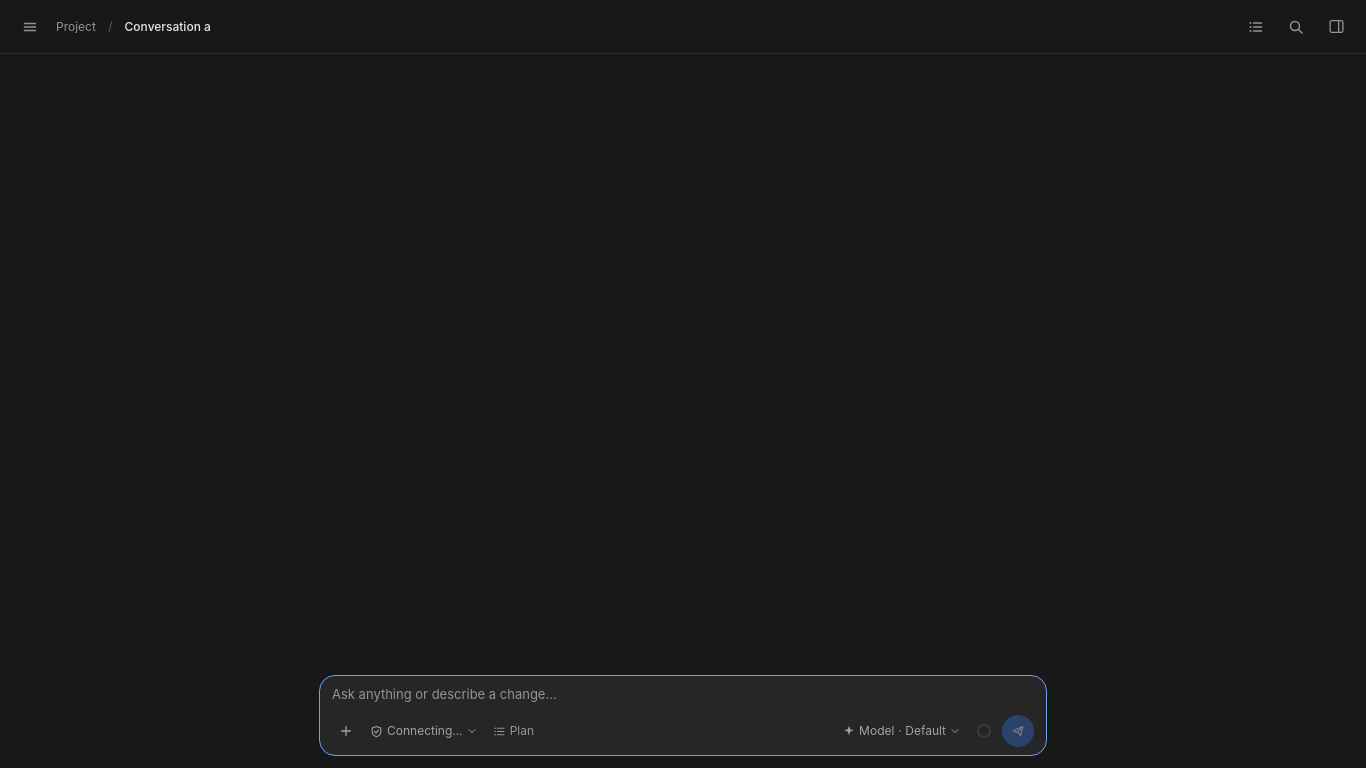
Test: does not present unavailable or partial inspections as a clean working tree
Step 1. Click the button named "Open workspace" → (1336, 26), box [1322,12,1350,40]
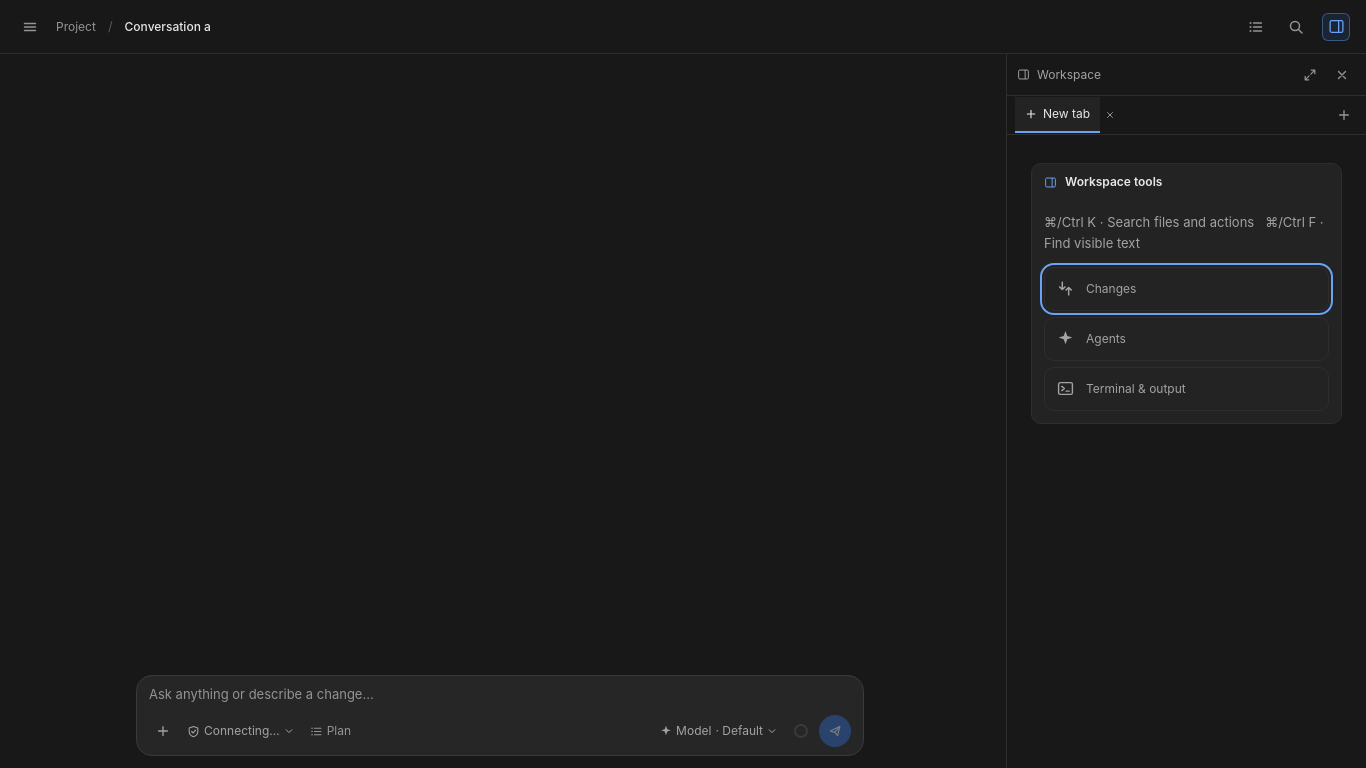
Step 2. Click the button "Changes" → (1111, 288), box [1044,267,1329,311]
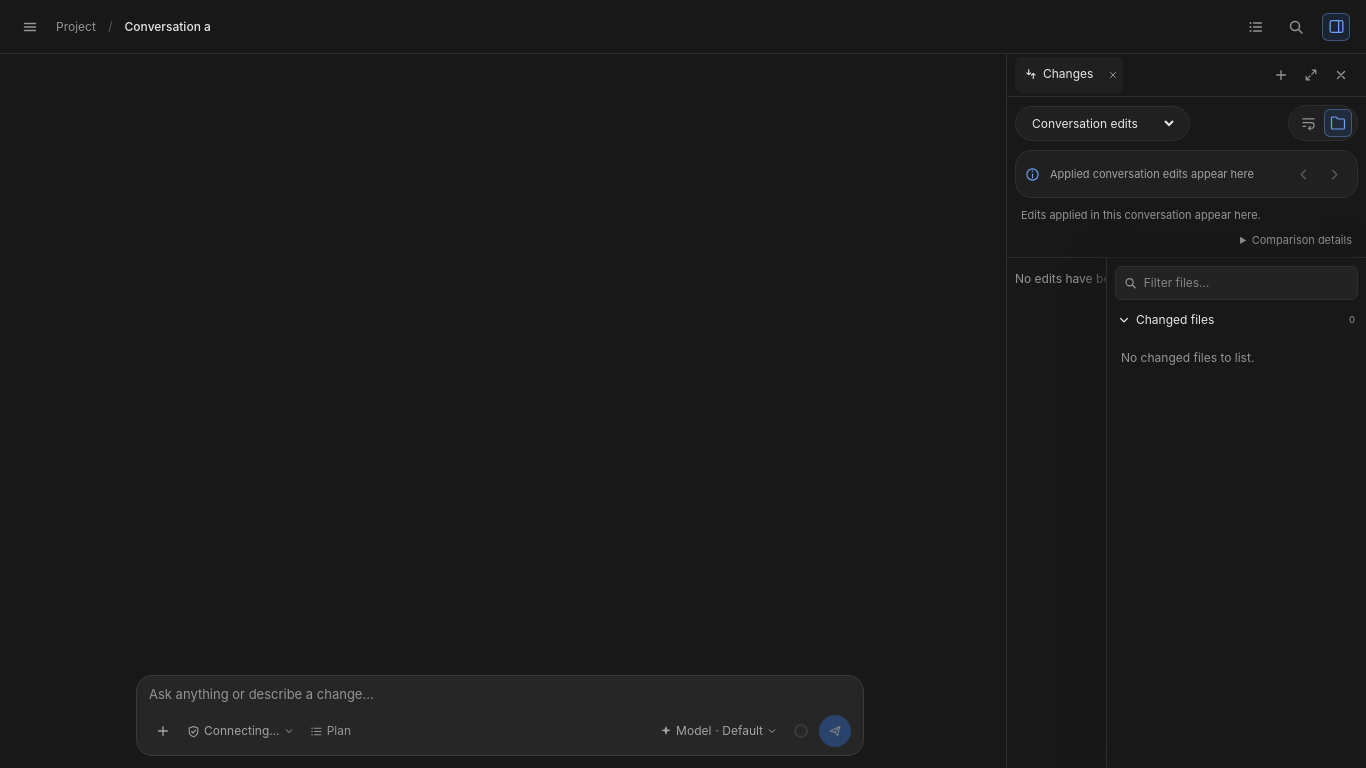
Step 3. Select "Uncommitted vs HEAD" in the dropdown named "Changes scope" → (1102, 123), box [1028,112,1177,134]
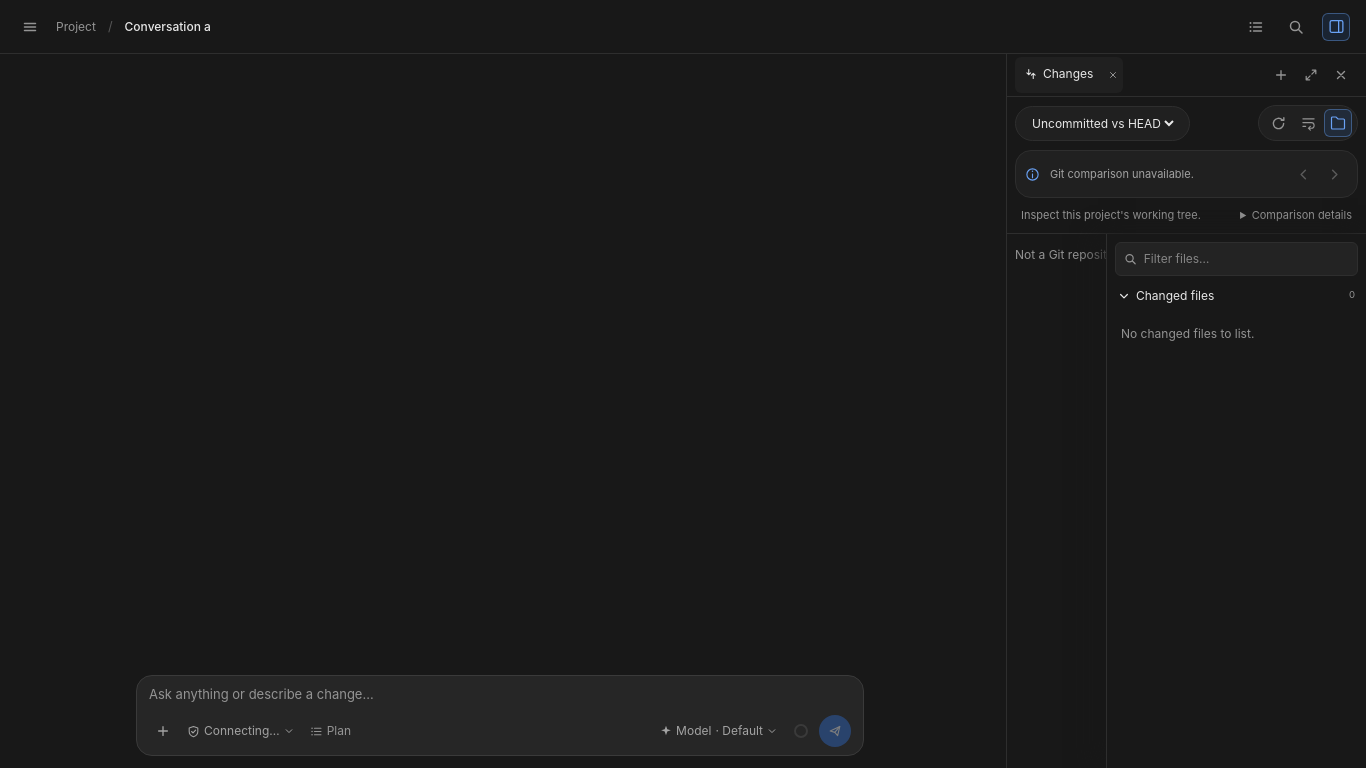
Result: the text "Not a Git repository." is shown at [1015,246,1128,262]
Step 4. Click the button named "Refresh Git comparison" → (1278, 123), box [1264,109,1292,137]
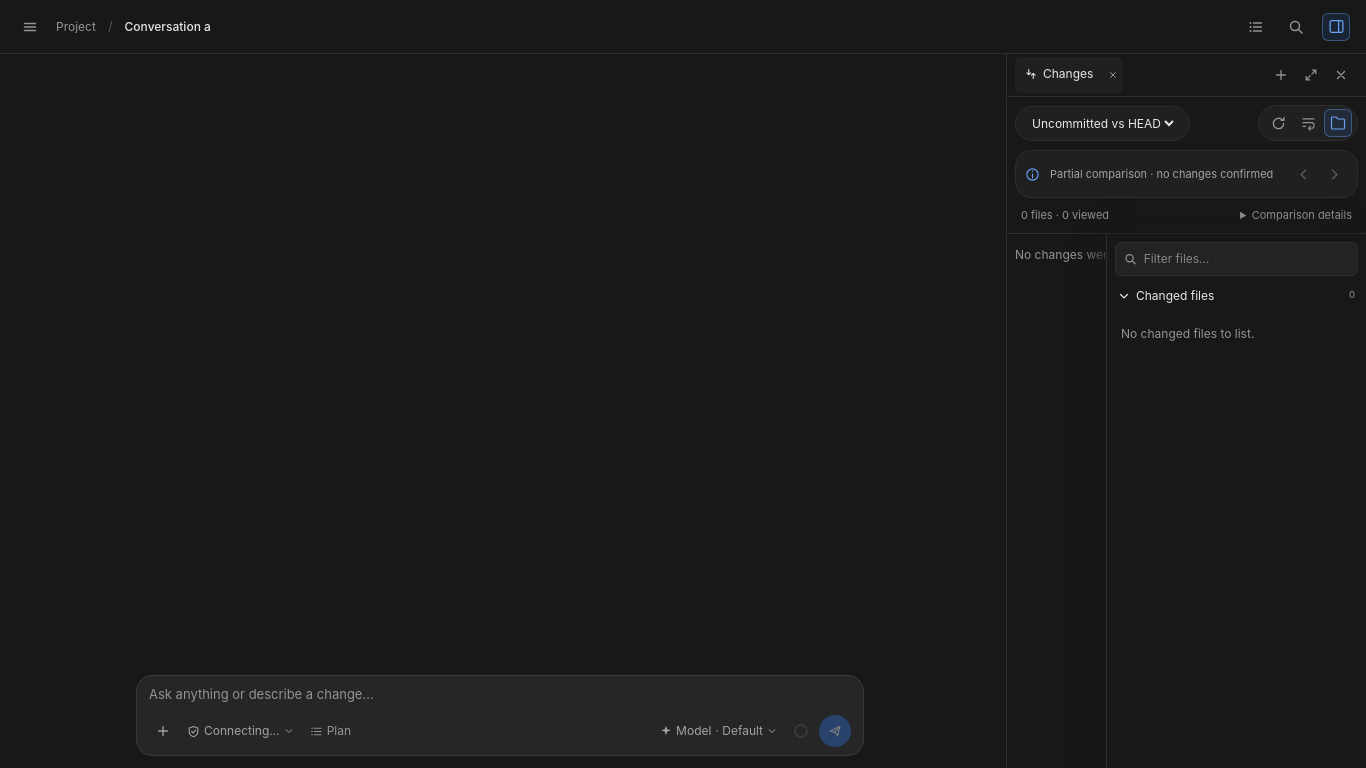
Result: the text "No changes were confirmed in the inspected subset." is shown at [1015,246,1314,262]
Step 5. Click the button named "Refresh Git comparison" → (1278, 123), box [1264,109,1292,137]
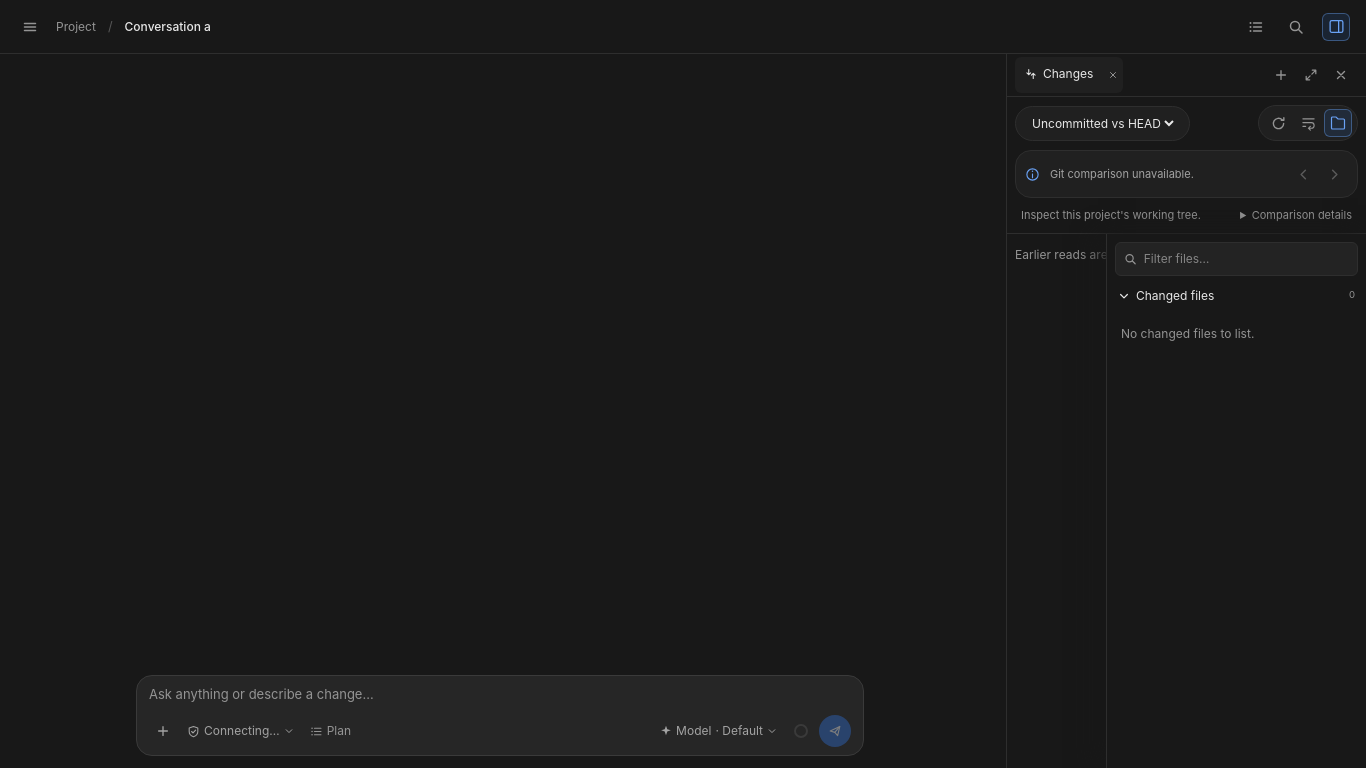
Result: the text "Earlier reads are still finishing." is shown at [1015,246,1185,262]
